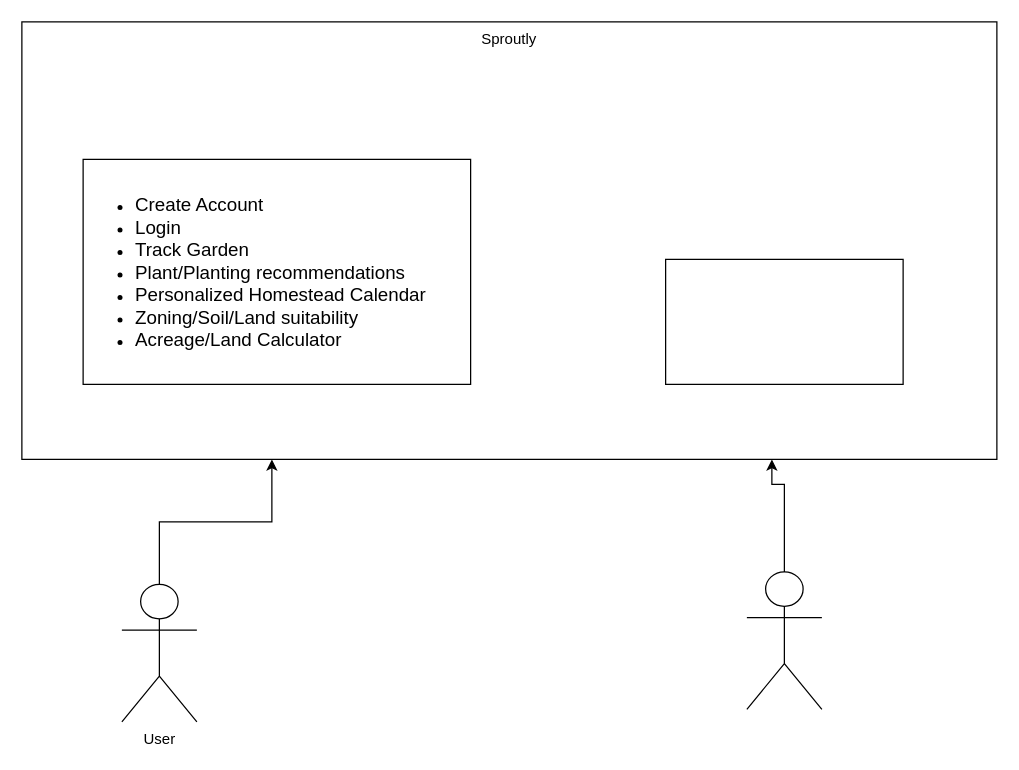
The diagram is 1019 pixels wide and 770 high, and some of its shapes have lost their labels. The shapes that lost their labels are listed below. From the top down, each one's centre as x and y in pixels, then its label:
At (783,321): "Moderate users Ban Accounts".
At (784,640): "Admin".
